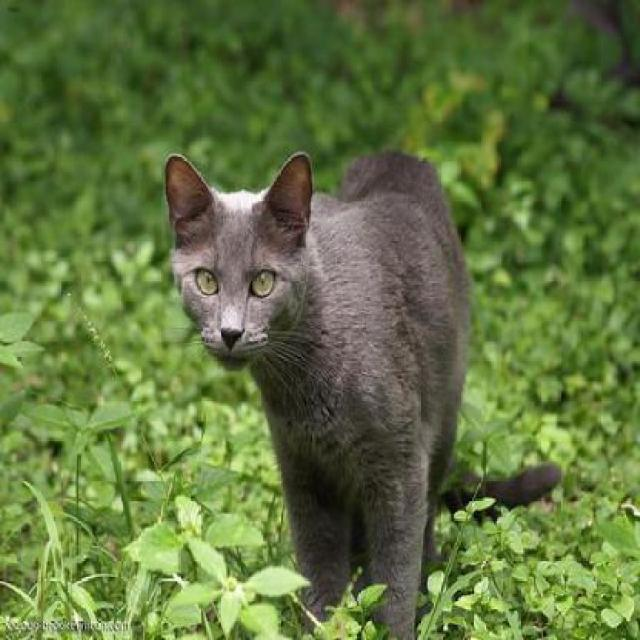cat: (165, 147, 562, 638)
